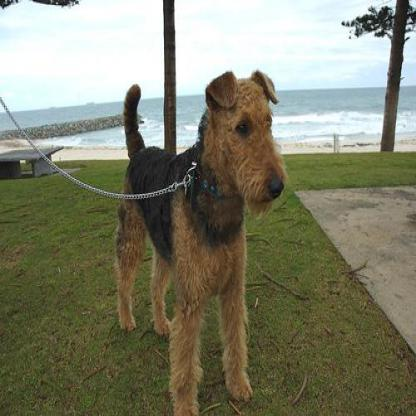dog: (117, 59, 285, 415)
